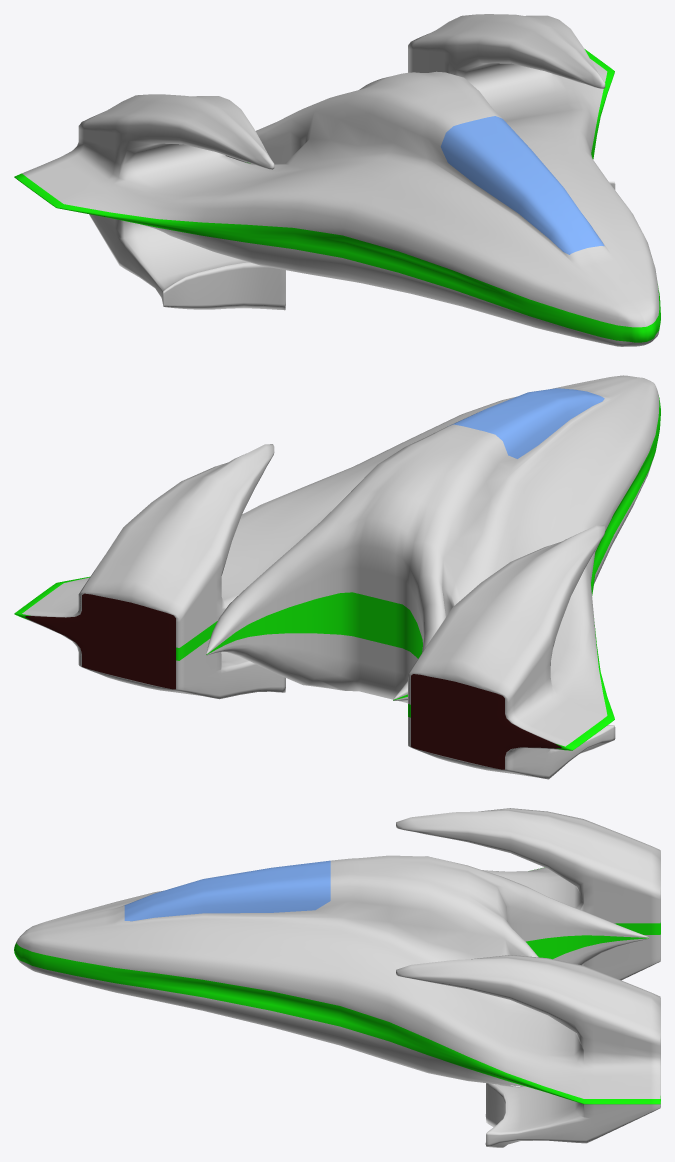
File: ship.FBX
3 views of the same model, one above another, from view 1: azimuth 30°, elevation 25°; view 2: azimuth 150°, elevation 25°; view 3: azimuth 270°, elevation 25° (orthographic). The views are drawn at different scales.
Parts seen in each view (by area): view 1: Ship; view 2: Ship; view 3: Ship.
Boxes of the visible parts, left/top/right/bottom form: Ship: left=14, top=14, right=660, bottom=346; Ship: left=14, top=375, right=660, bottom=779; Ship: left=14, top=808, right=660, bottom=1147.
Size of the model in its own units: 904 by 353 by 992.
